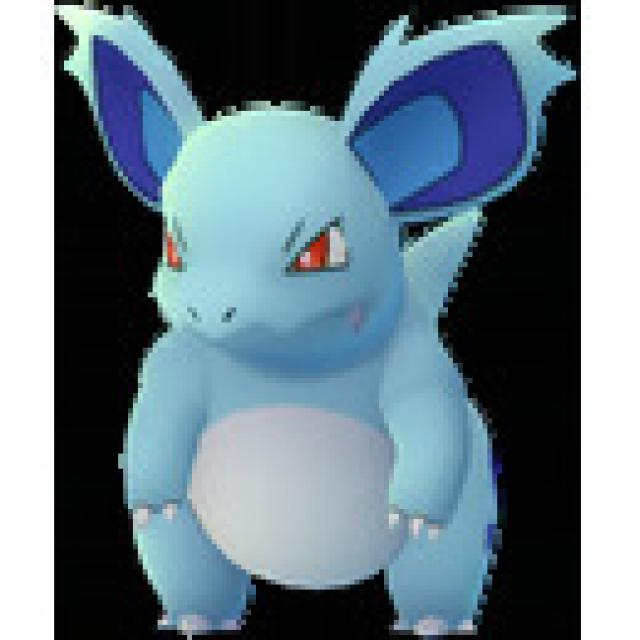Nidorina: (71, 10, 542, 640)
